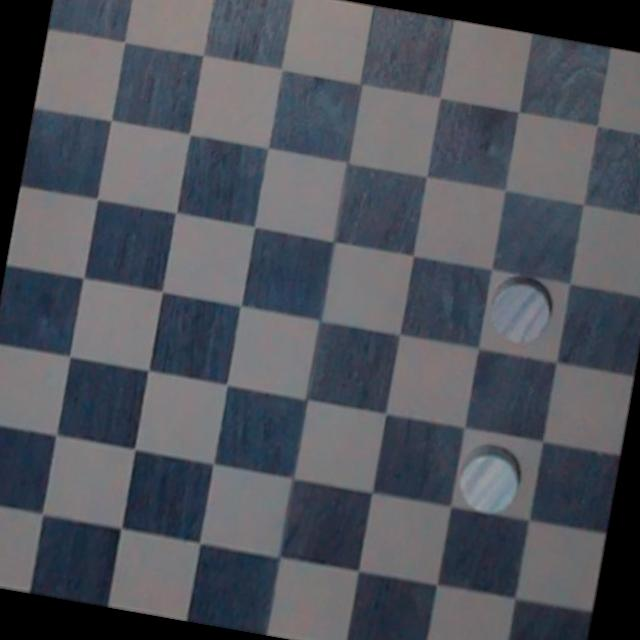BOARD: (0, 0, 640, 640)
white: (476, 260, 569, 354), (446, 434, 532, 525)
